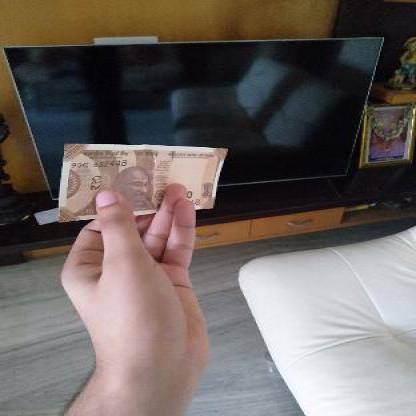New10Front: (61, 142, 226, 216)
